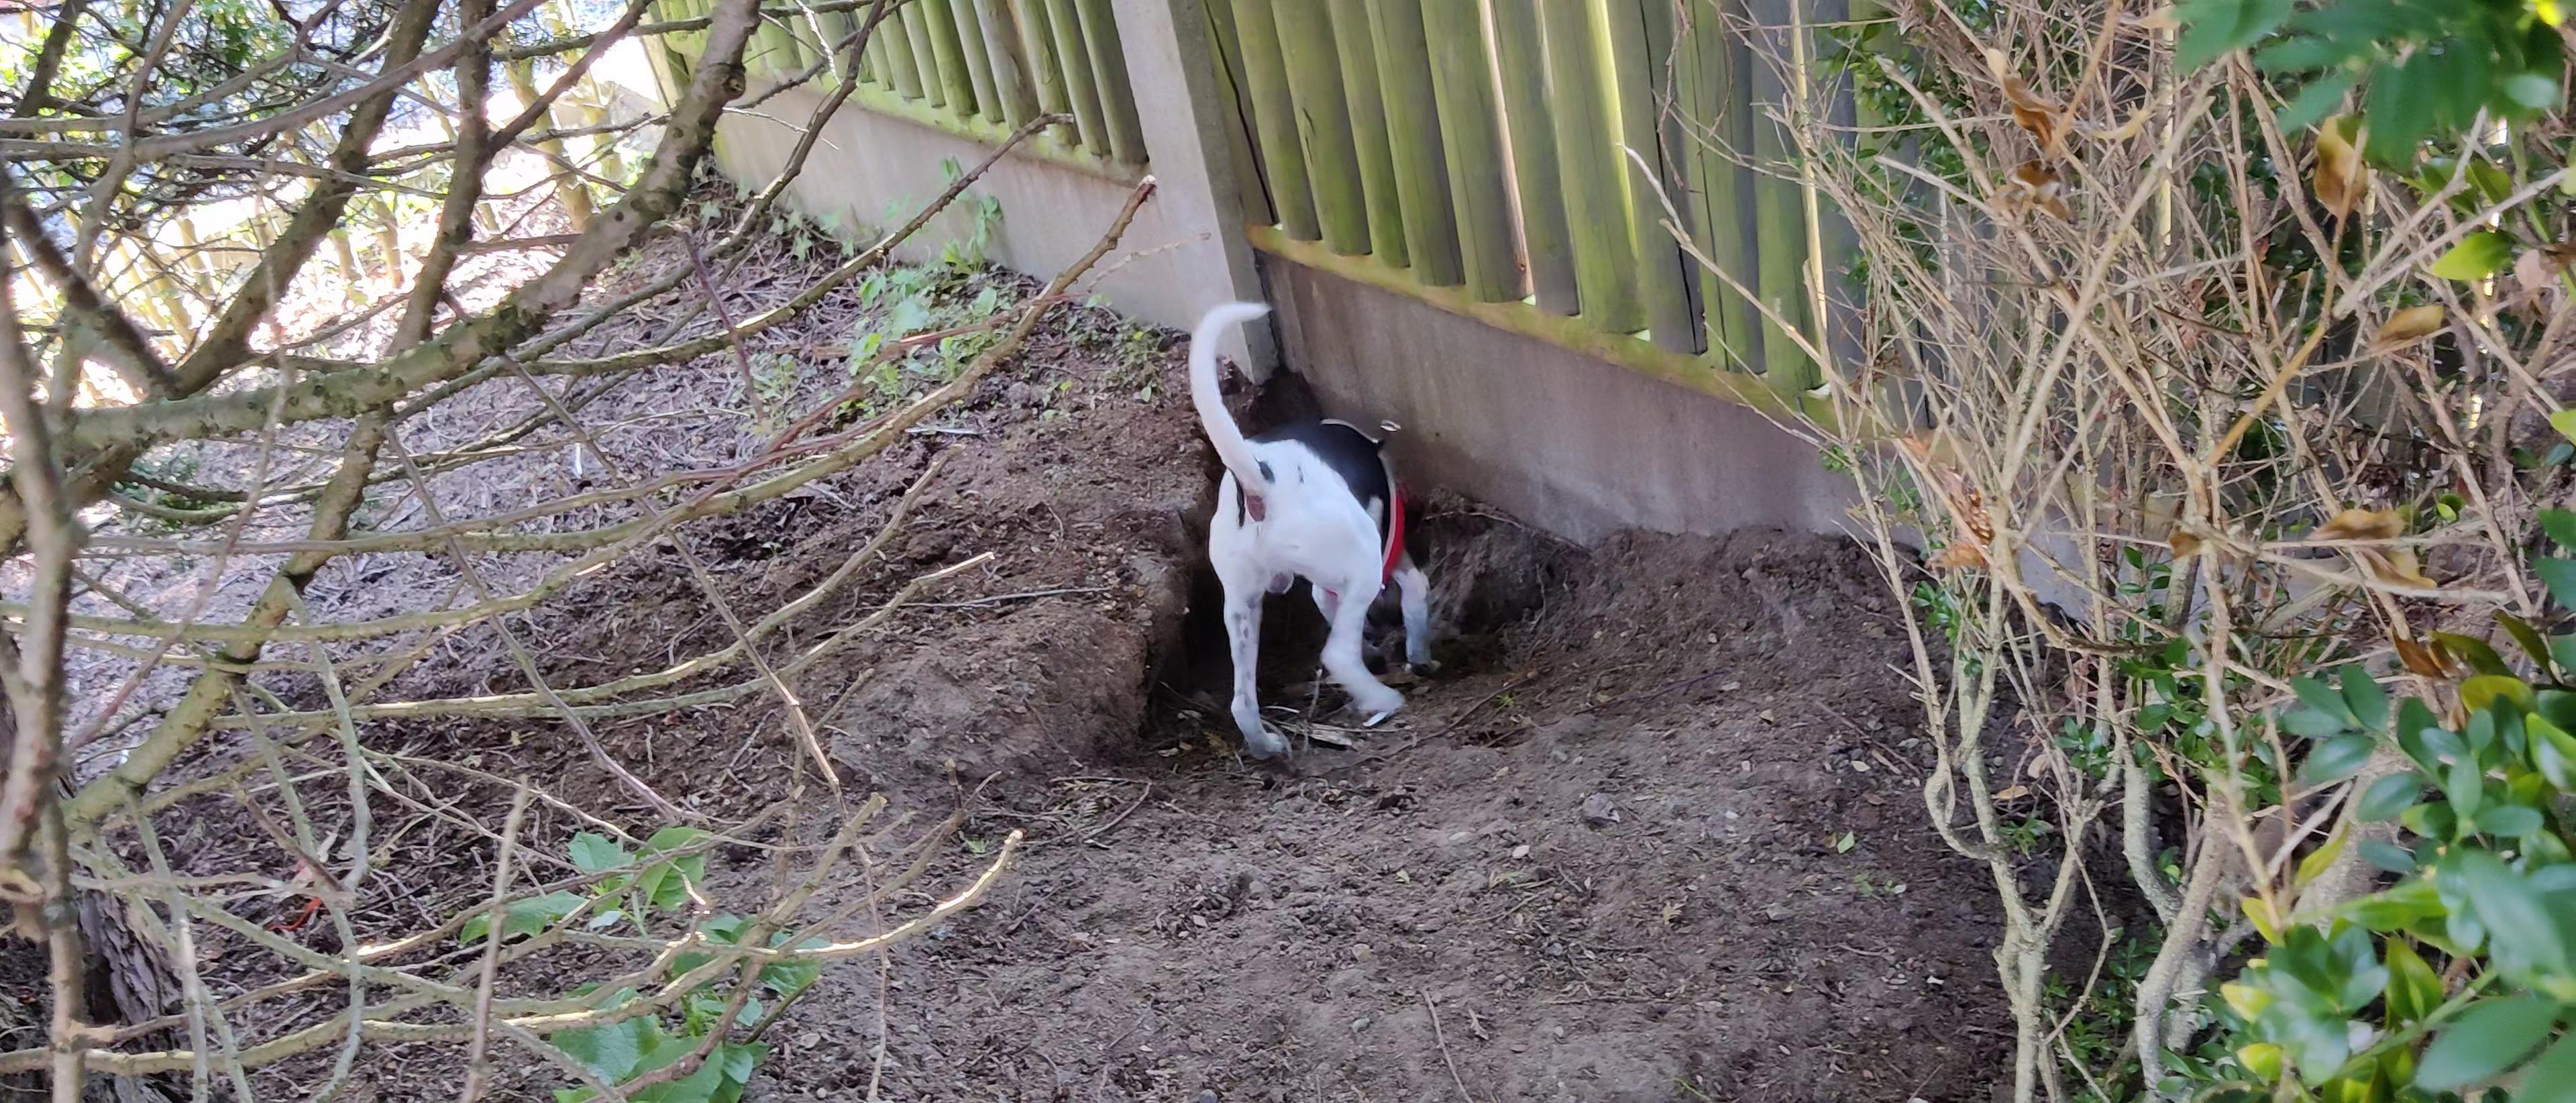Dog: (1165, 276, 1454, 784)
